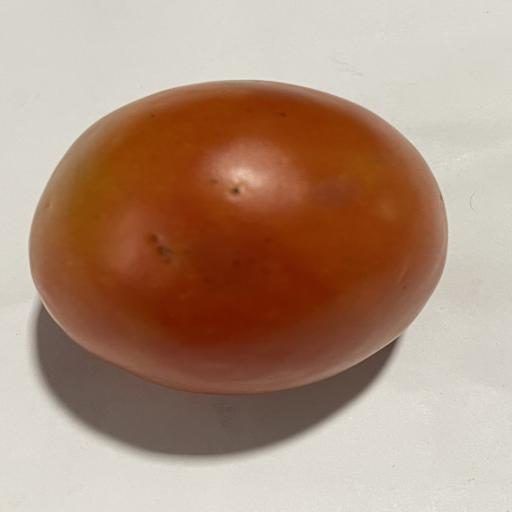ripe: (30, 81, 447, 394)
